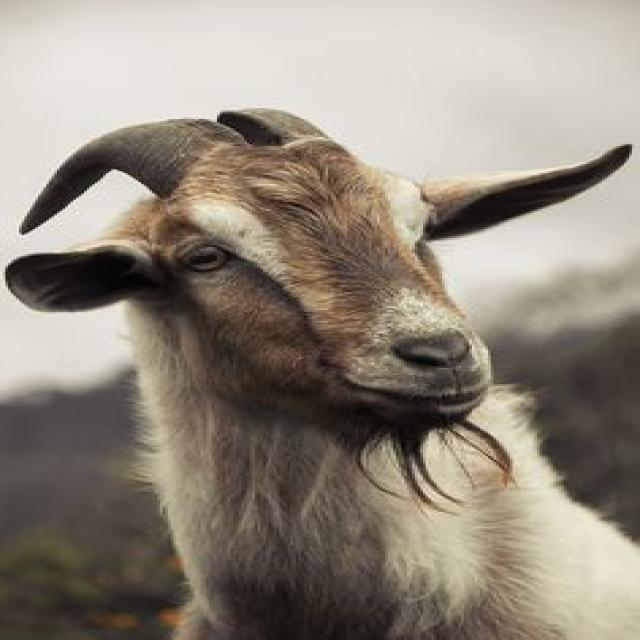Herbivorous: (5, 108, 640, 640)
